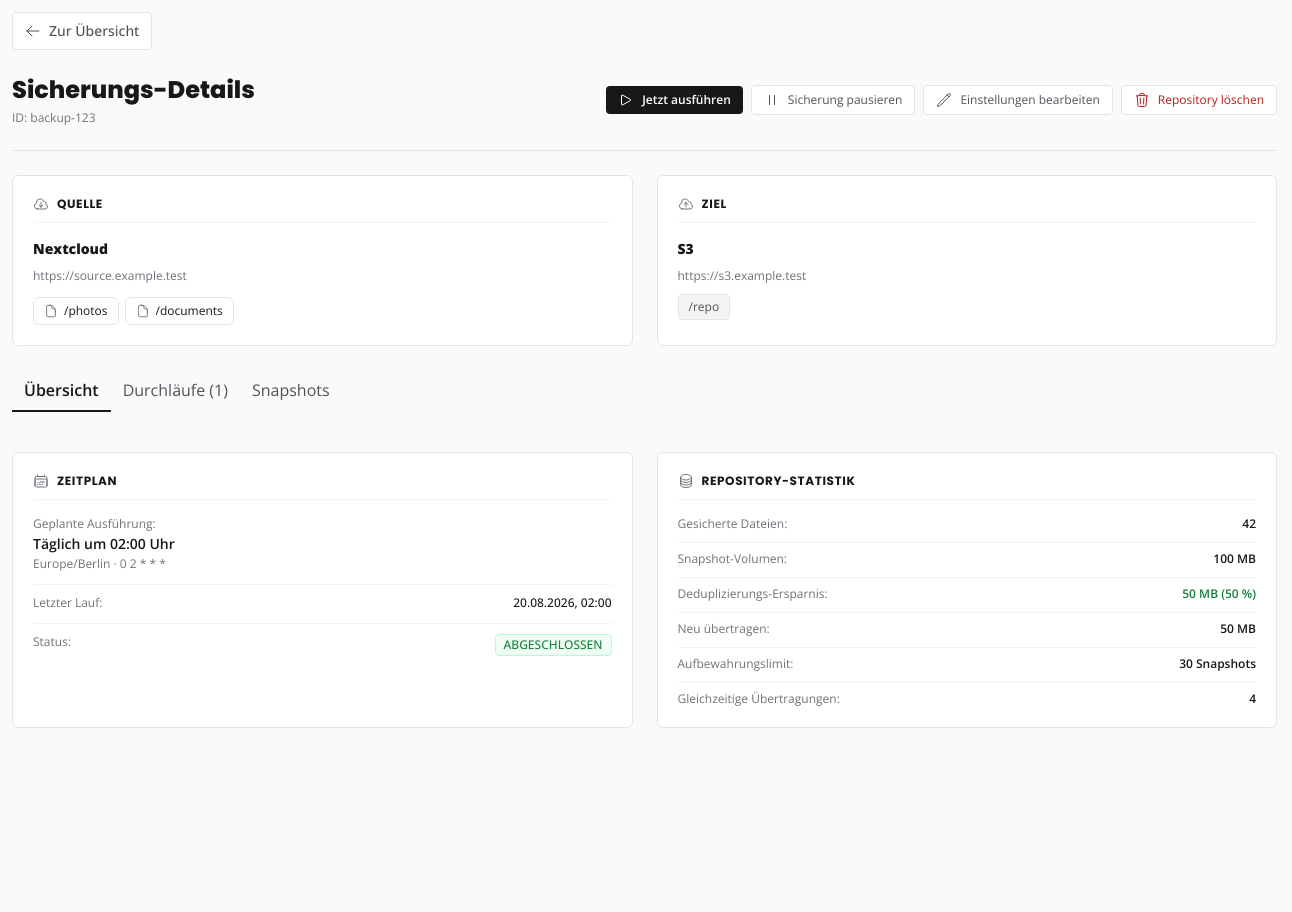
BackupDashboard › switches to runs tab and displays runs table
Step 1. Click the tab "Durchläufe (1)" → (175,391), box [111,370,240,412]
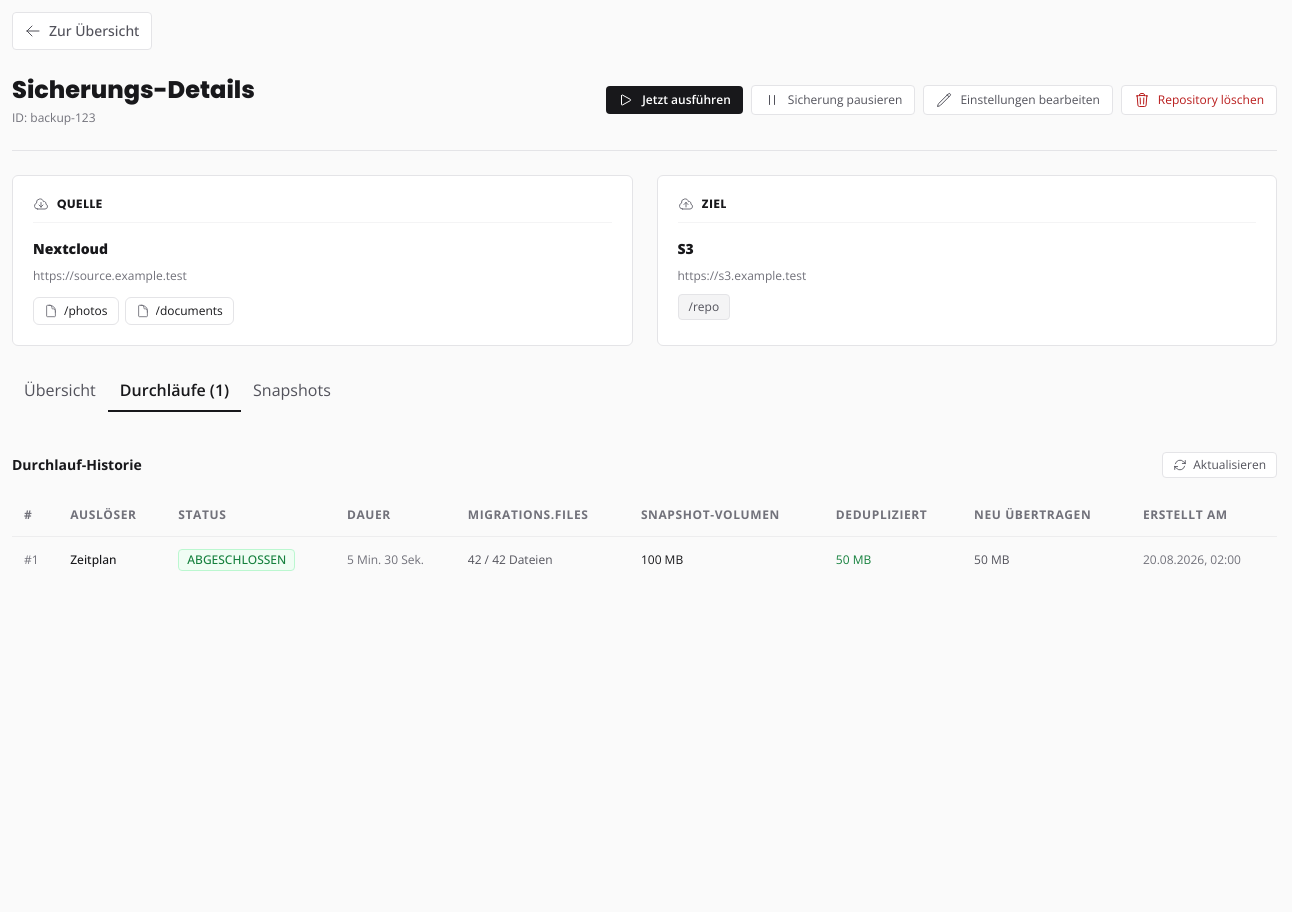
Expected: the text "#1" is shown, [12,536,58,583]
Expected: the text "42 / 42" is shown, [468,551,552,568]
